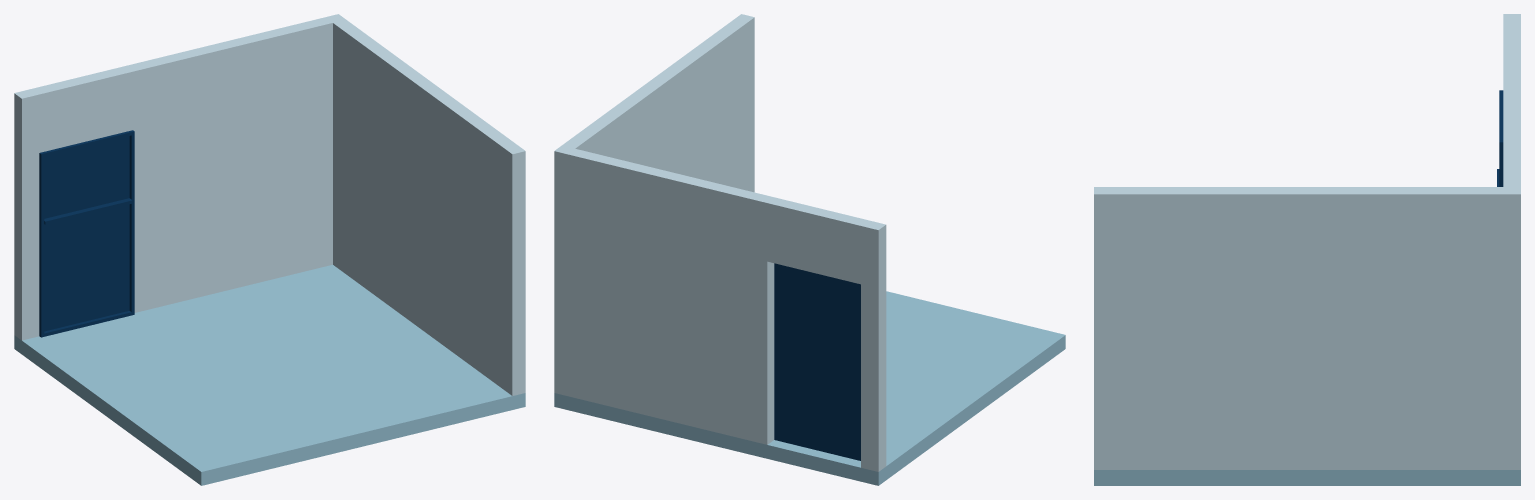
File: room5.glb
3 renders of one model, left to right at view 1: azimuth 30°, elevation 25°; view 2: azimuth 150°, elevation 25°; view 3: azimuth 270°, elevation 25°, orthographic. The views are drawn at different scales.
Parts seen in each view (by area): view 1: room5, door.001; view 2: room5, door.001; view 3: room5, door.001.
Boxes of the visible parts, <box> form: room5: <box>14,14,525,485</box>; door.001: <box>39,130,134,337</box>; room5: <box>554,14,1065,485</box>; door.001: <box>774,263,860,460</box>; room5: <box>1094,14,1520,485</box>; door.001: <box>1497,90,1503,186</box>.
Bounding box in the file's own units: 3.65 × 2.75 × 3.65.
